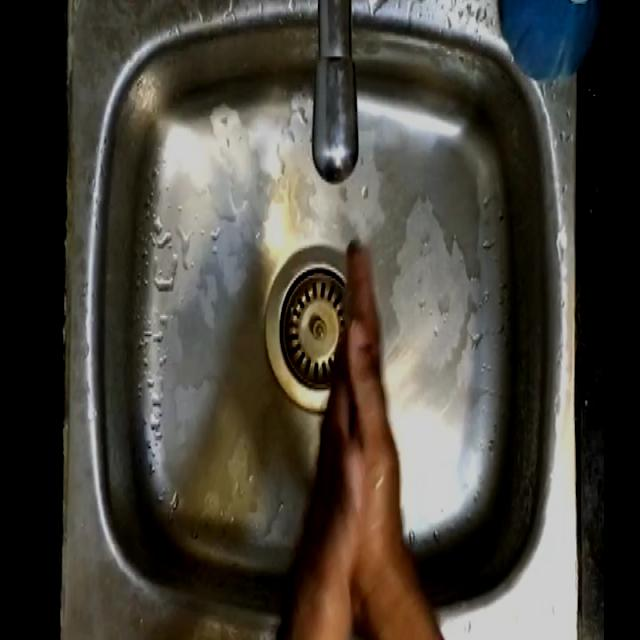step_1: (291, 225, 414, 563)
